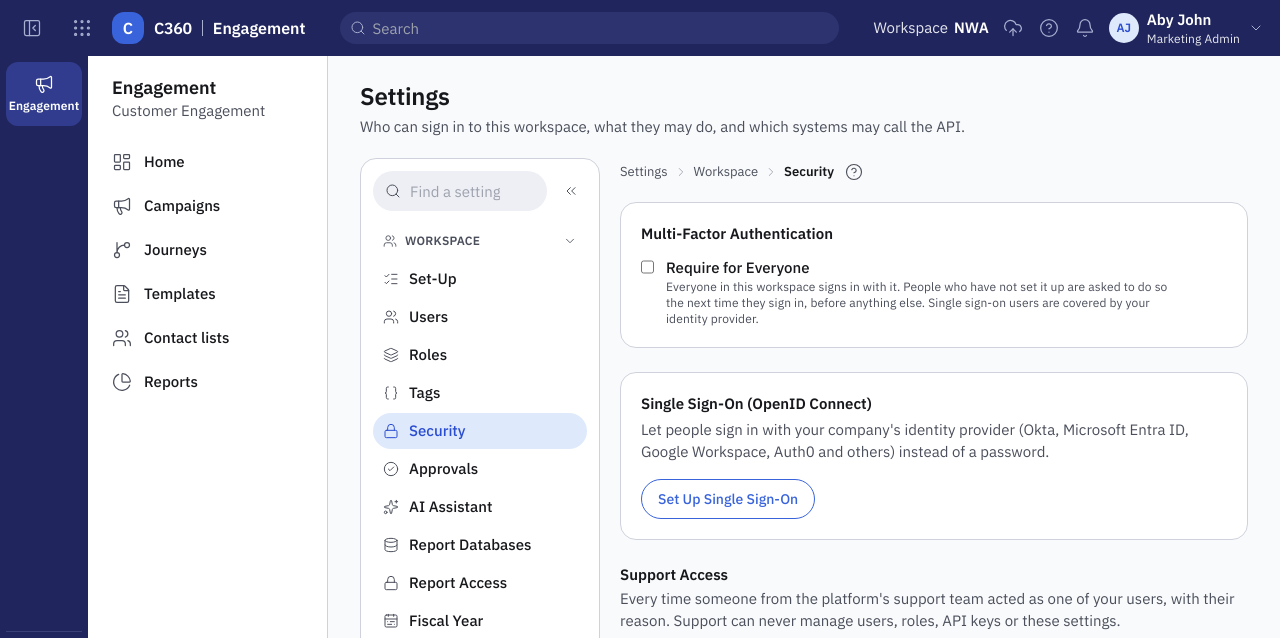
Test: security: requiring MFA without having it yourself is refused with a way forward
Click the checkbox labelled "Require for Everyone": {"x": 648, "y": 267} [641,259,654,275]
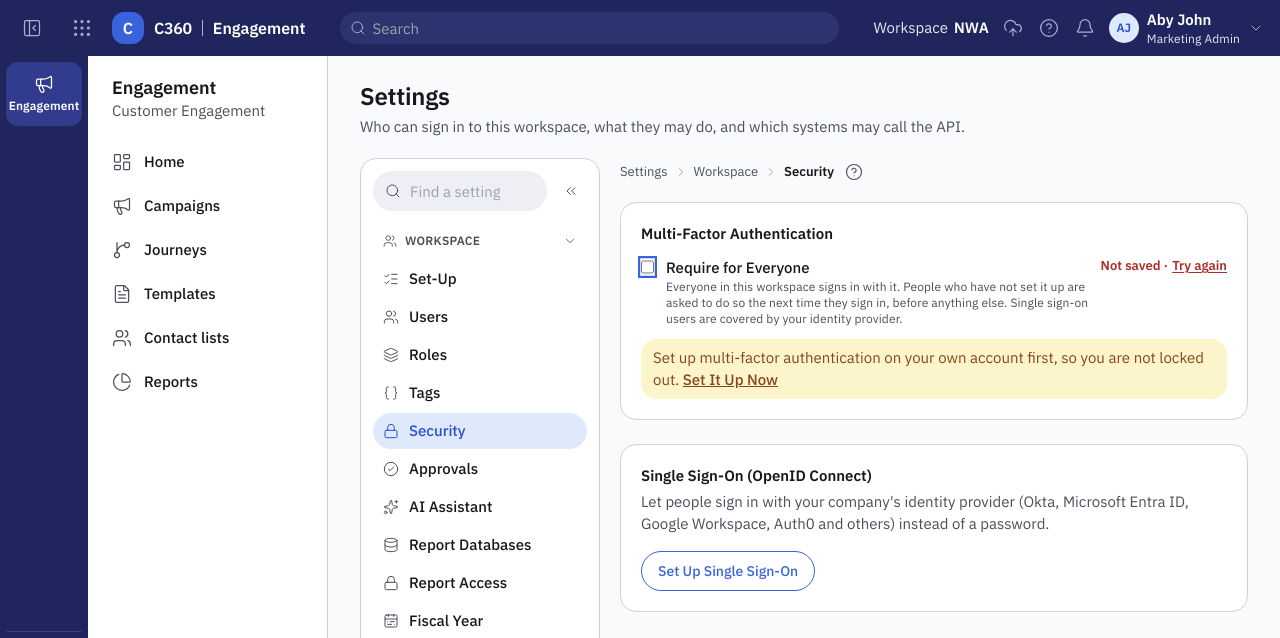
expect the message shows "on your own account first": met, box [653,348,1204,389]
